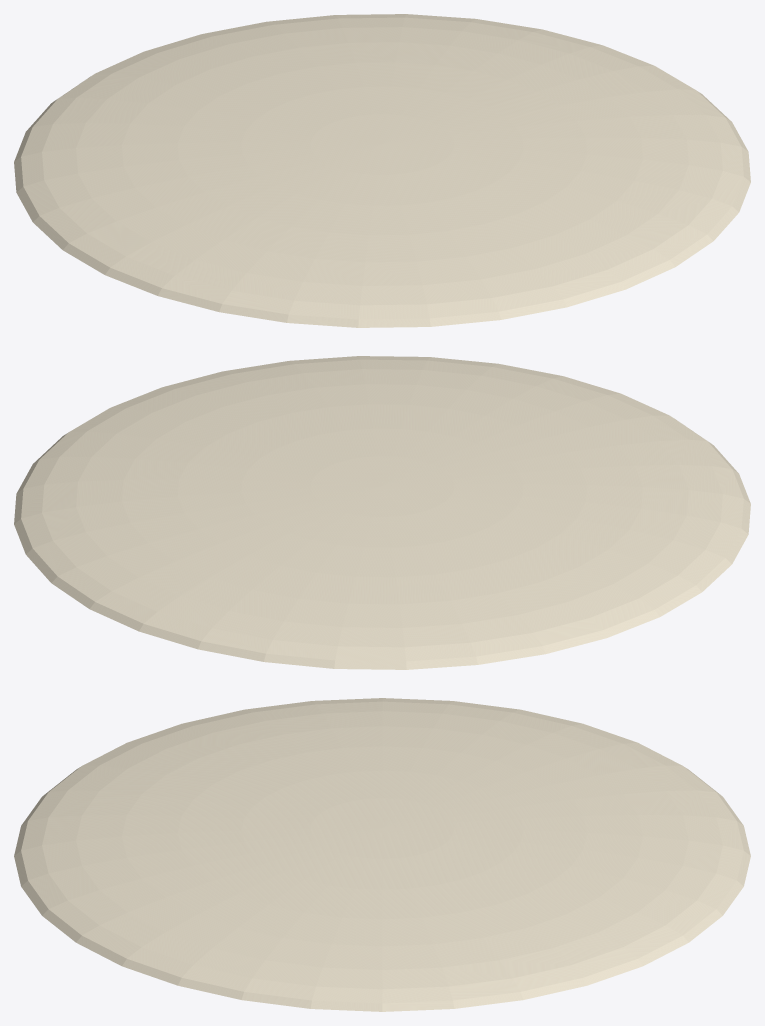
Rendered from Beach.glb.
The picture shows the model from 3 angles, top to bottom: view 1: azimuth 30°, elevation 25°; view 2: azimuth 150°, elevation 25°; view 3: azimuth 270°, elevation 25°; orthographic projection.
Parts seen in each view (by area): view 1: Beach; view 2: Beach; view 3: Beach.
Part boxes in pixels (box(x1,y1,x2,y2)): Beach: box(14, 14, 750, 327); Beach: box(14, 356, 750, 669); Beach: box(14, 698, 750, 1011).
Bounding box in the file's own units: 197 × 8.28 × 197.
1 material, 1 textured.
